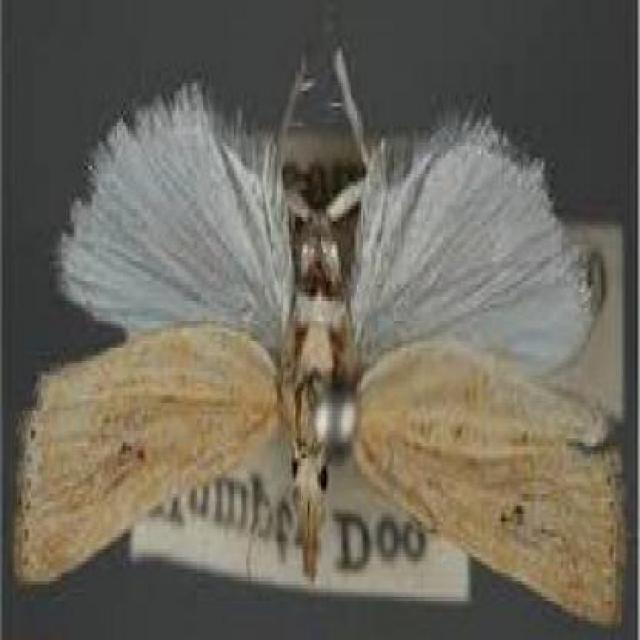stem-borer: (8, 29, 626, 634)
